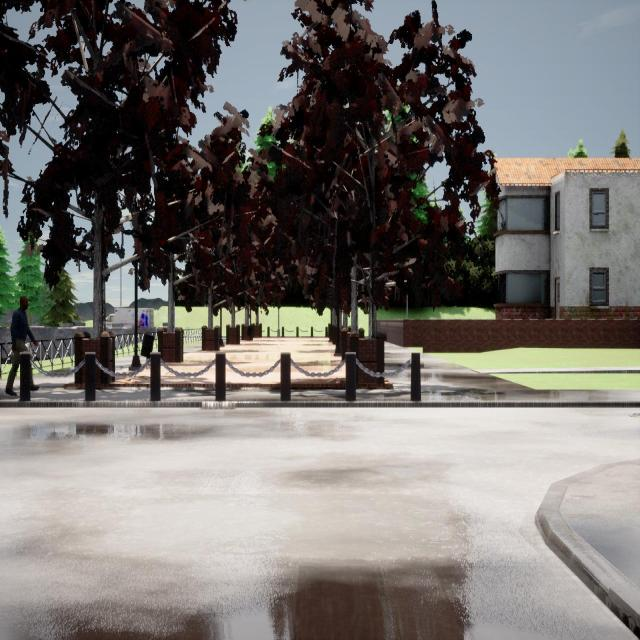Pedestrian: (5, 295, 40, 395)
Vehicle: (106, 308, 154, 328)
